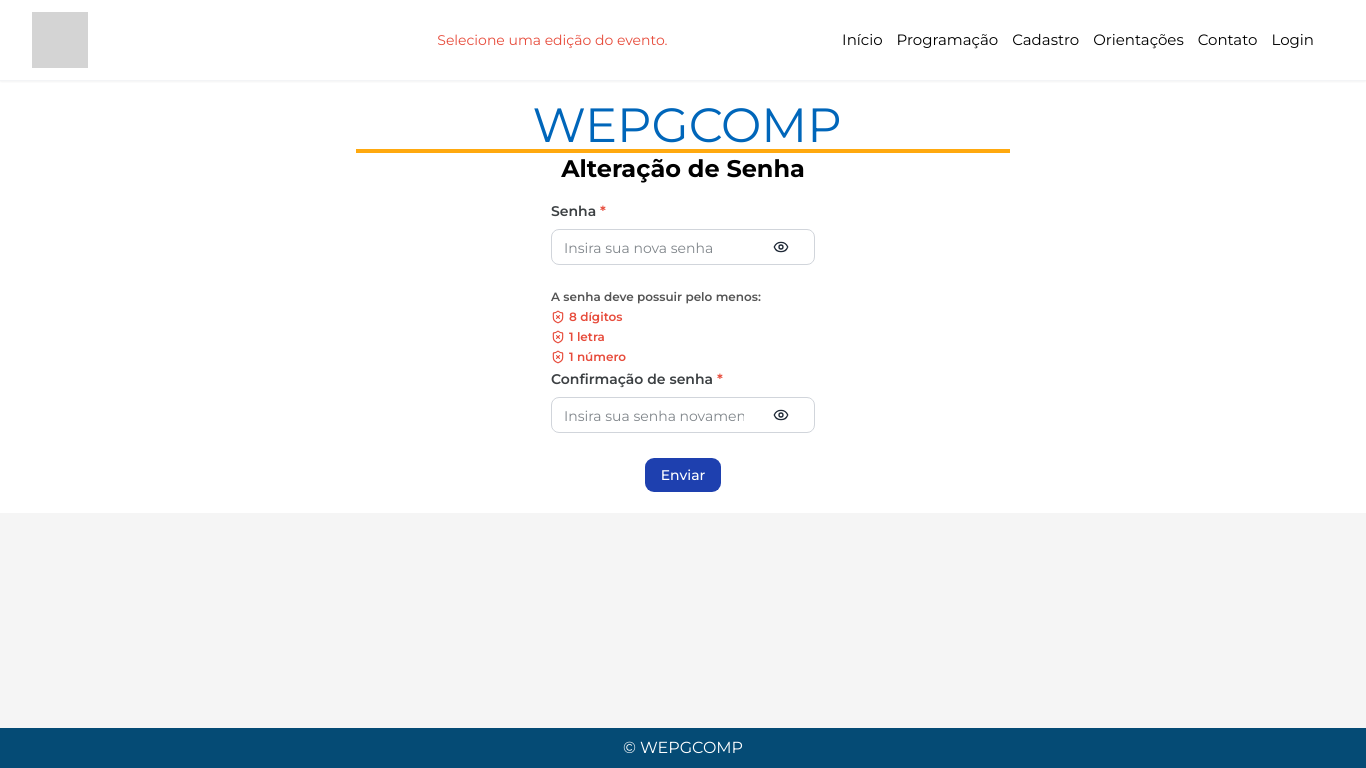
Test: Componente do Formulário de Alterar Senha › Deve exibir mensagem de erro se as senhas não coincidirem
Type "SenhaSegura123!" into the password field with id "senha" at [654, 247], box [552,230,756,264]
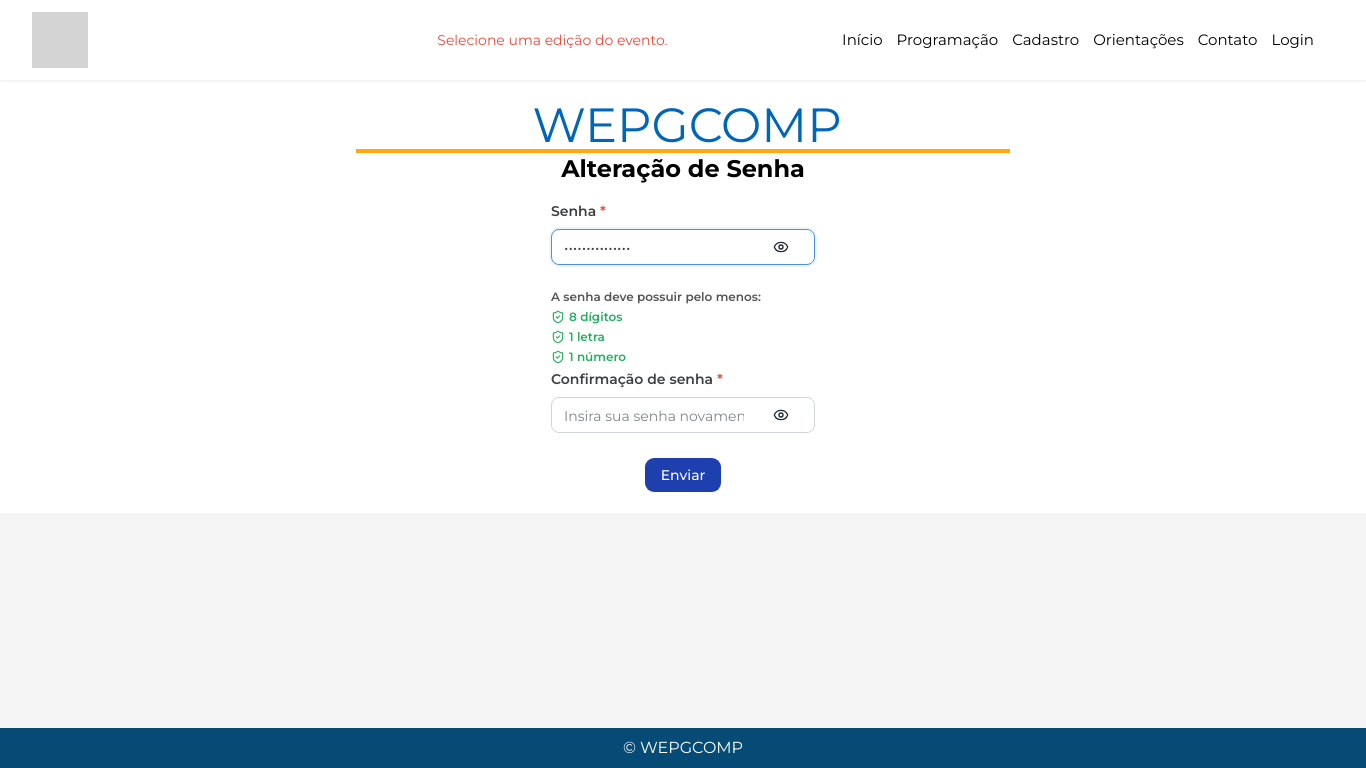
Type "SenhaDiferente123!" into the password field with id "confirmaSenha" at [654, 415], box [552,398,756,432]
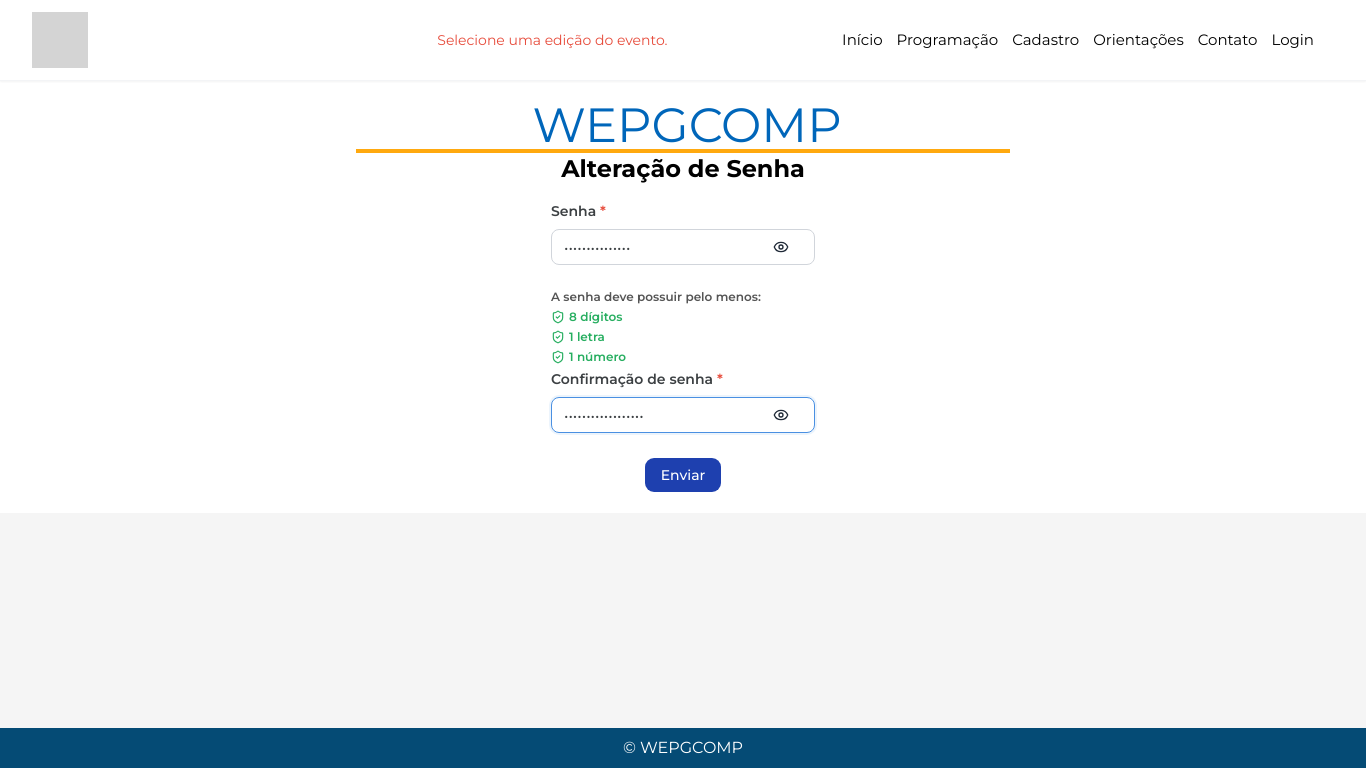
Click the submit button at [684, 475], box [644,457,723,493]
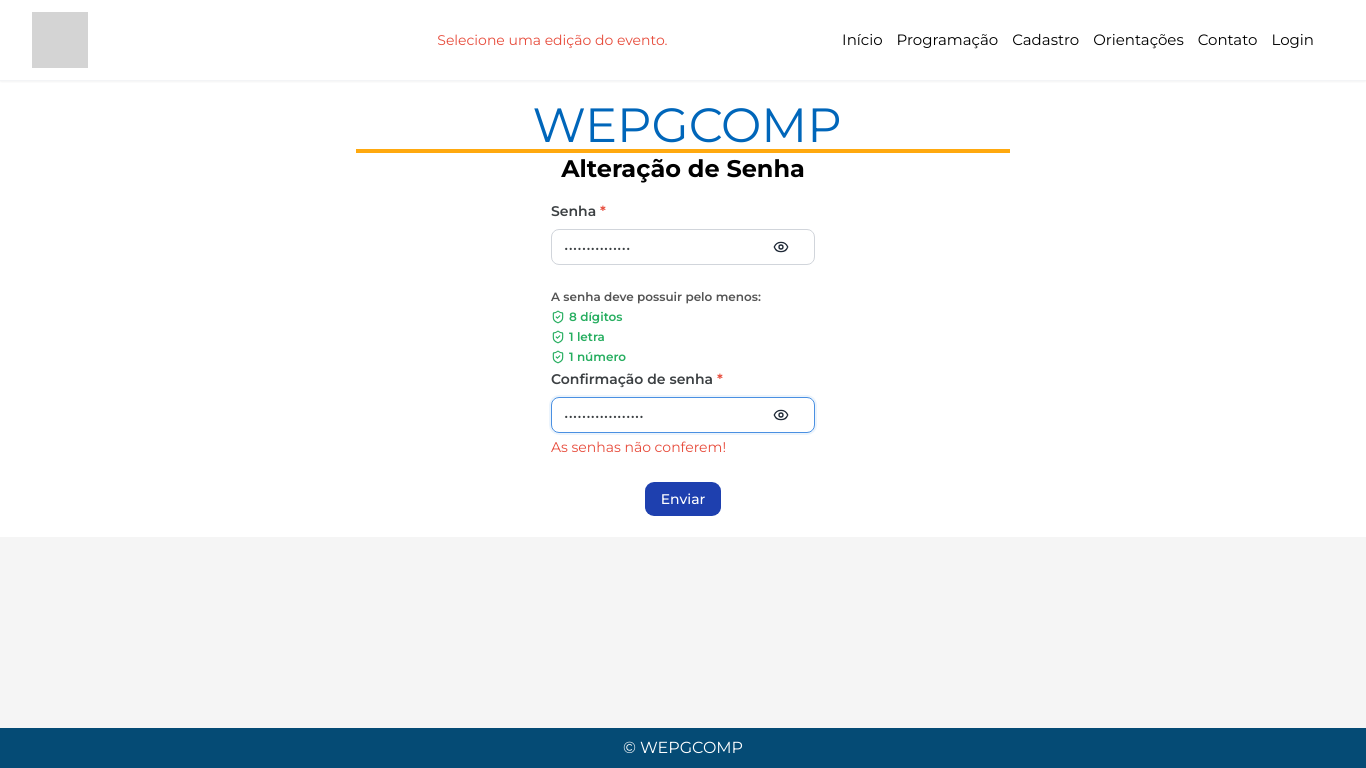
expect the text "As senhas não conferem!" is shown: met, box [551,438,726,456]
